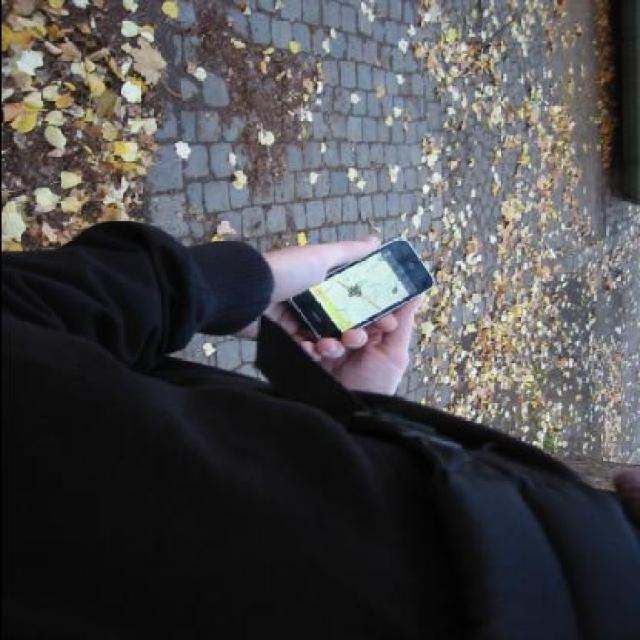phone: (281, 238, 441, 355)
